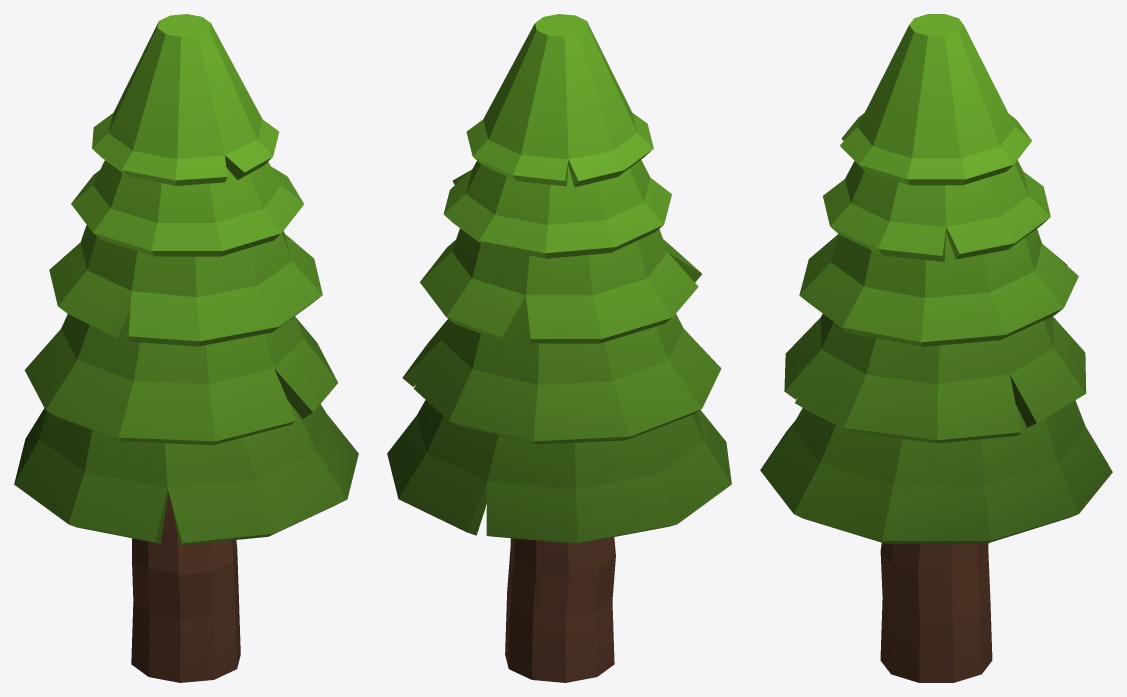
Rendered from tree.fbx.
The picture shows the model from 3 angles, left to right: view 1: azimuth 30°, elevation 25°; view 2: azimuth 150°, elevation 25°; view 3: azimuth 270°, elevation 25°; orthographic projection.
Visible parts, largest first — view 1: Leaves, Trunk; view 2: Leaves, Trunk; view 3: Leaves, Trunk.
Boxes of the visible parts, box(x1,y1,x2,y2) form: Leaves: box(14, 14, 358, 545); Trunk: box(131, 492, 240, 682); Leaves: box(387, 14, 731, 543); Trunk: box(505, 537, 615, 682); Leaves: box(760, 14, 1112, 543); Trunk: box(880, 543, 992, 682).
Bounding box in the file's own units: 300 × 625 × 315.
2 materials, 2 textured.
